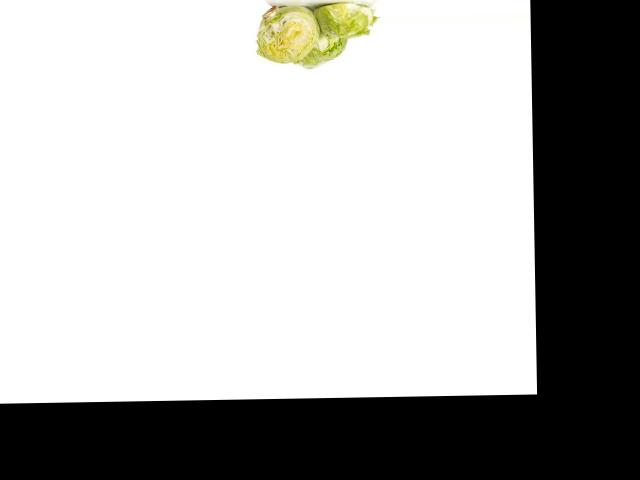lettuce: (286, 27, 353, 71)
